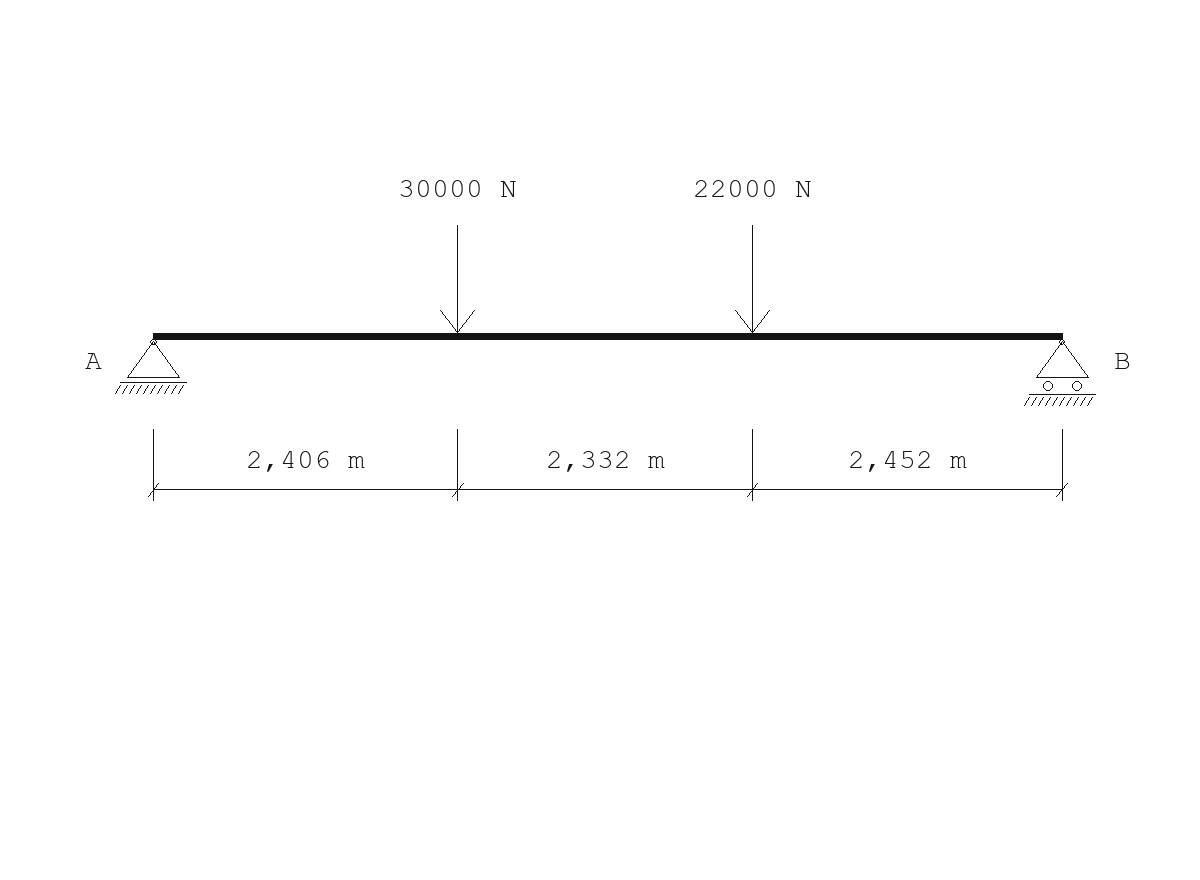pin_support: (115, 339, 187, 394)
point_load: (440, 225, 475, 333), (735, 225, 770, 333)
roller_support: (1024, 339, 1096, 406)
